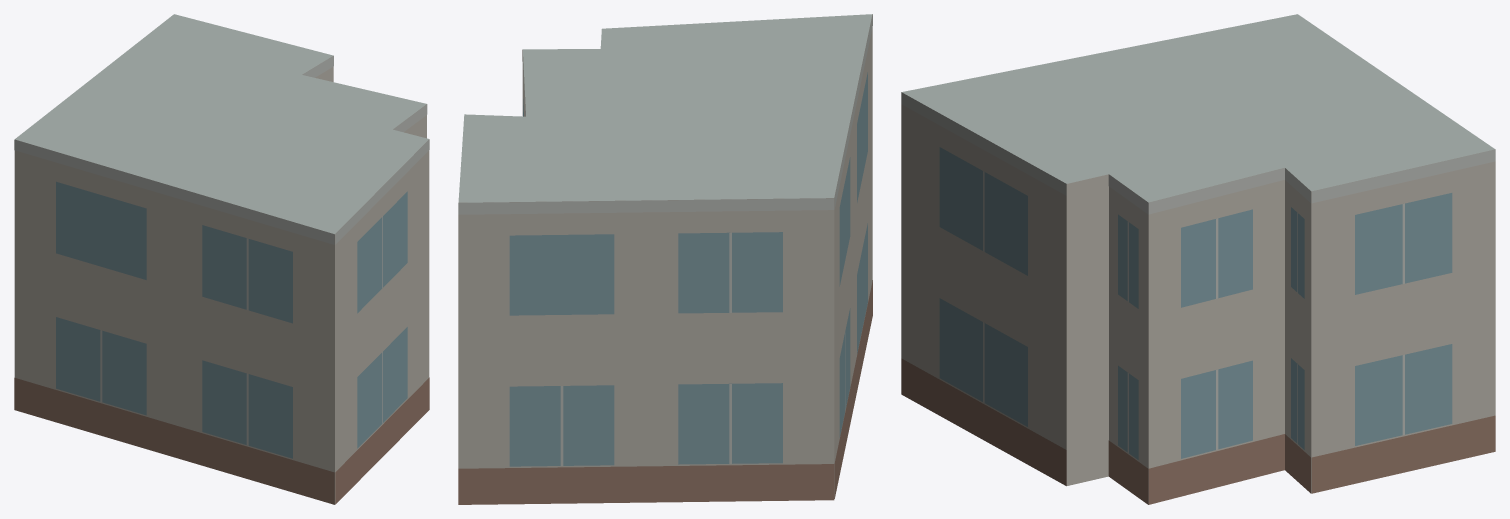
File: survey-upis-32726317.glb
3 views of the same model, side by side, from view 1: azimuth 30°, elevation 25°; view 2: azimuth 150°, elevation 25°; view 3: azimuth 270°, elevation 25° (orthographic). The views are drawn at different scales.
Parts seen in each view (by area): view 1: survey-upis-32726317.tmp; view 2: survey-upis-32726317.tmp; view 3: survey-upis-32726317.tmp.
Boxes of the visible parts, x1,y1,x2,y2 form: survey-upis-32726317.tmp: [14, 14, 429, 504]; survey-upis-32726317.tmp: [458, 14, 872, 504]; survey-upis-32726317.tmp: [901, 14, 1495, 504].
Bounding box in the file's own units: 8.17 × 6.1 × 10.88.
